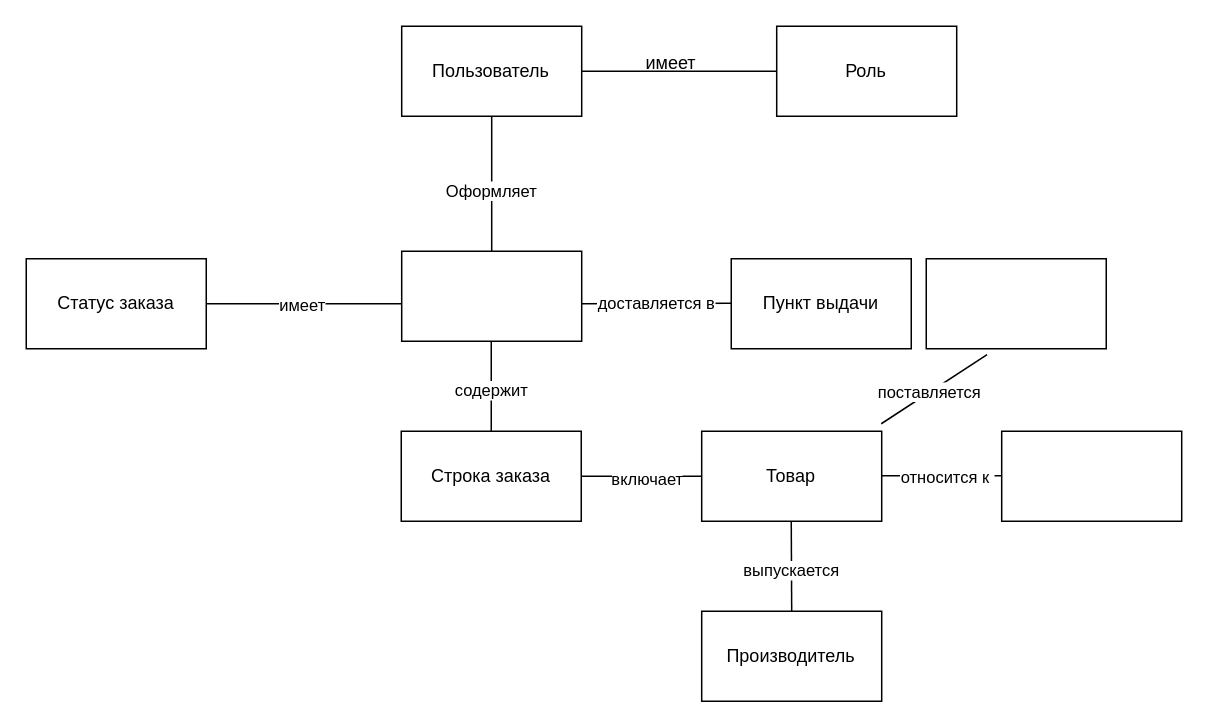
The diagram is 1209 pixels wide and 728 high, and some of its shapes have lost their labels. The shapes that lost their labels are listed below. From the top down, each one's centre as x and y in pixels, then its label:
At point 491,295: "Заказ".
At point 1015,303: "Поставщик".
At point 1091,475: "Категория".
